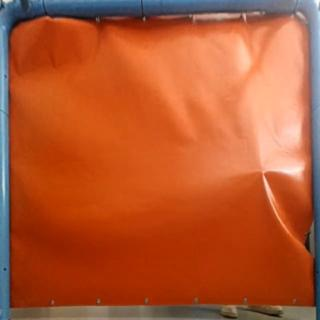Hit-hRxx: (255, 168, 276, 180)
